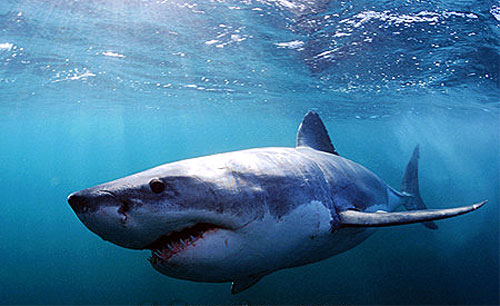Carcharodon_carcharias: (53, 101, 496, 300)
